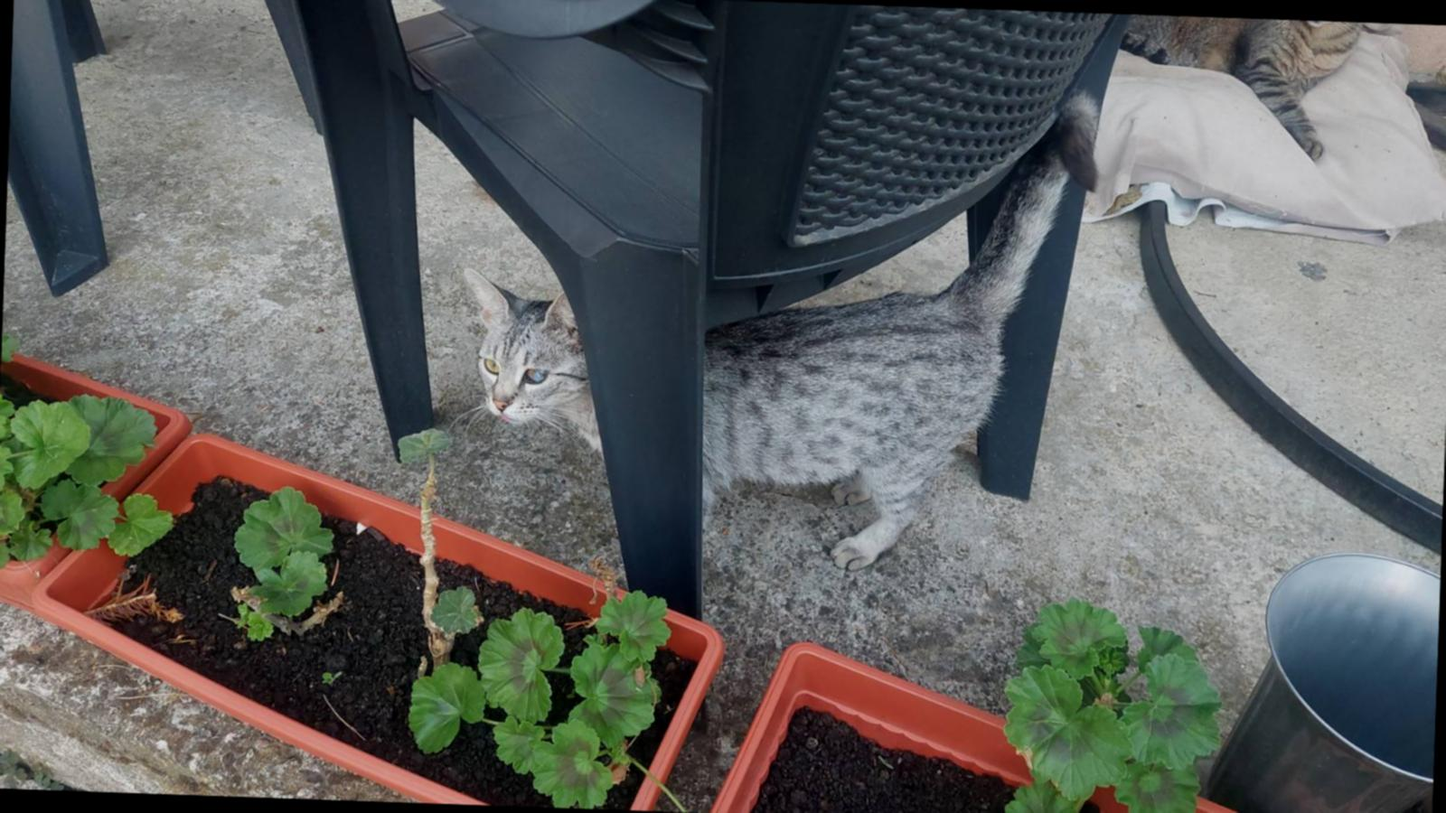macka: (451, 67, 1103, 585), (1067, 12, 1375, 163)
